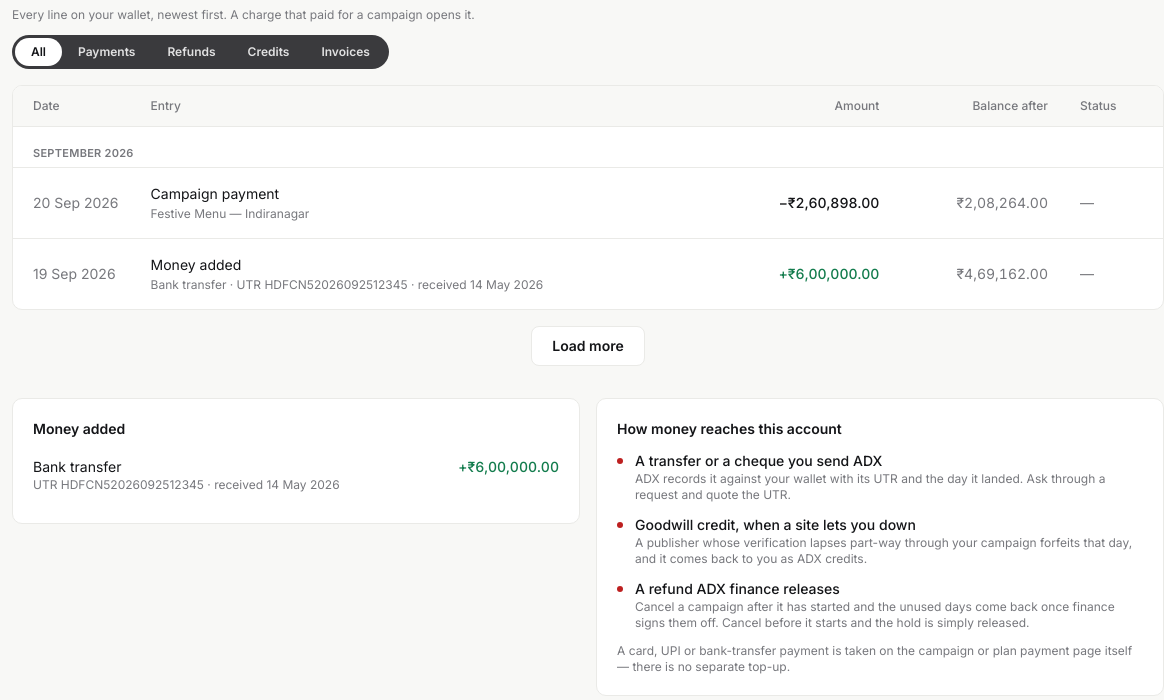
Test: wallet & billing › draws the balance split, joins a charge to its campaign and a top-up to its UTR, and pages by cursor
(page scrolled)
Expected: the text "Festive Menu — Indiranagar" is shown, x1=151 y1=206 x2=309 y2=221
Expected: the text "Bank transfer · UTR HDFCN52026092512345 · received 14 May 2026" is shown, x1=151 y1=277 x2=543 y2=292
Click the button "Load more" at (588, 346), box x1=531 y1=326 x2=645 y2=366
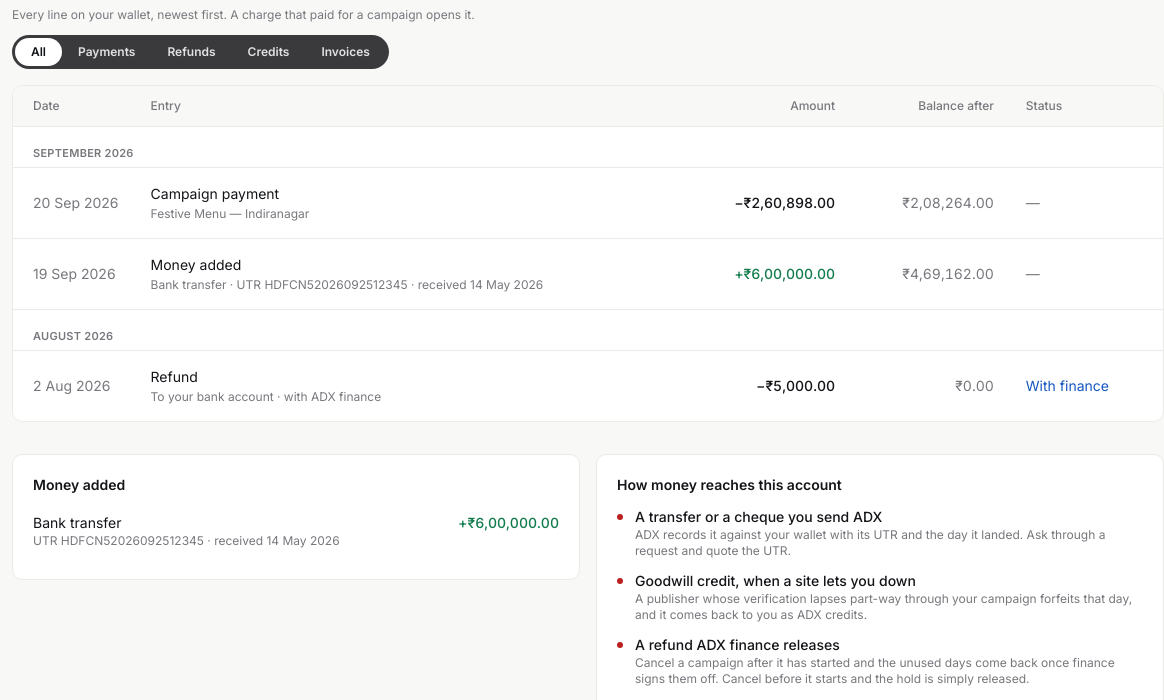
Expected: the text "To your bank account · with ADX finance" is shown, x1=151 y1=389 x2=381 y2=404
Expected: the button "Load more" is gone
